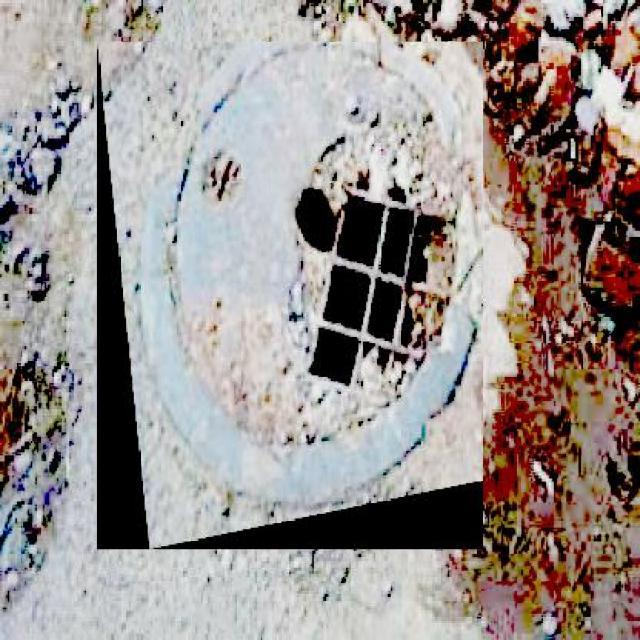Manhole: (97, 42, 483, 550)
